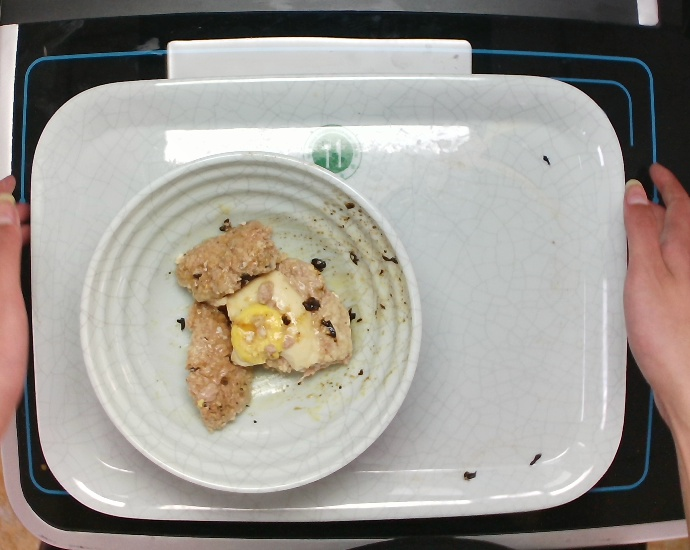JYsf-Da_Tang_Wan: (72, 147, 424, 497)
